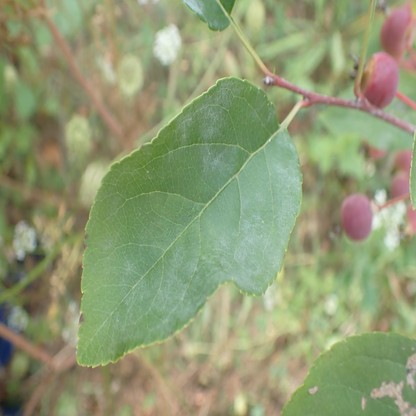frogeye: (370, 353, 416, 416), (361, 395, 366, 411), (310, 385, 318, 393)
powder: (233, 154, 301, 291), (156, 232, 200, 318), (199, 81, 238, 173), (94, 306, 168, 351), (202, 232, 233, 283), (119, 262, 150, 308), (181, 110, 194, 141), (275, 130, 294, 151), (100, 235, 114, 253), (267, 100, 276, 121), (251, 107, 261, 123), (168, 149, 177, 165)
